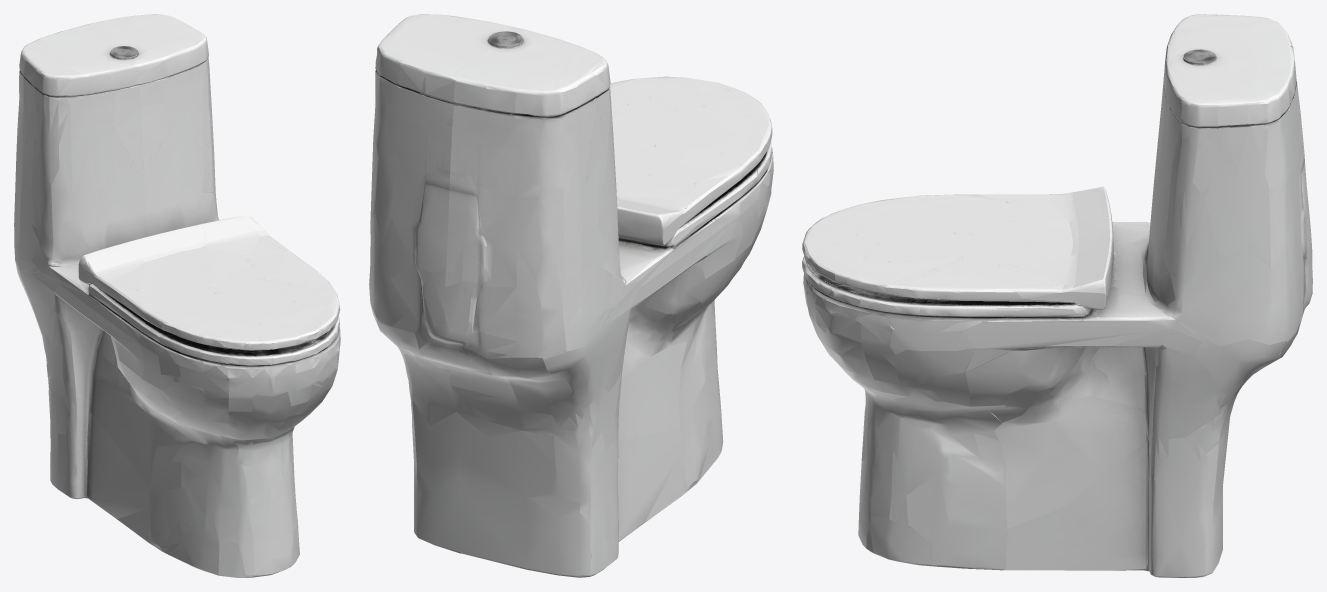
File: toilet.glb
3 views of the same model, side by side, from view 1: azimuth 30°, elevation 25°; view 2: azimuth 150°, elevation 25°; view 3: azimuth 270°, elevation 25° (orthographic). The views are drawn at different scales.
Bounding box in the file's own units: 0.8292 × 1.9 × 1.83.
1 material, 1 textured.
